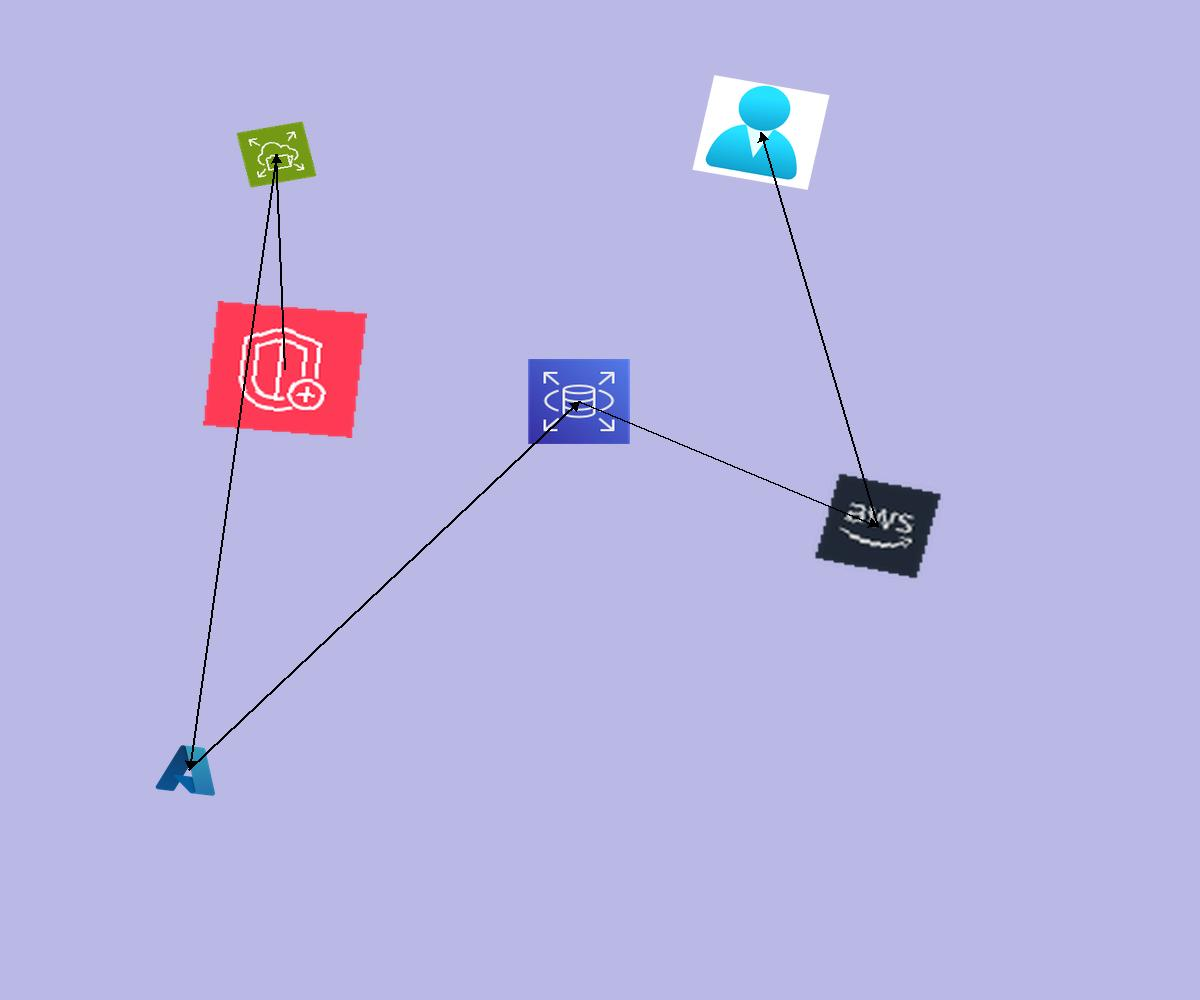AWS-Cloud-logo: (813, 472, 943, 580)
AWS-EFS: (236, 121, 317, 188)
AWS-RDS: (527, 358, 631, 445)
AWS-Shield: (203, 301, 367, 438)
Azure_services: (152, 739, 226, 800)
Azure_users: (692, 75, 830, 190)
